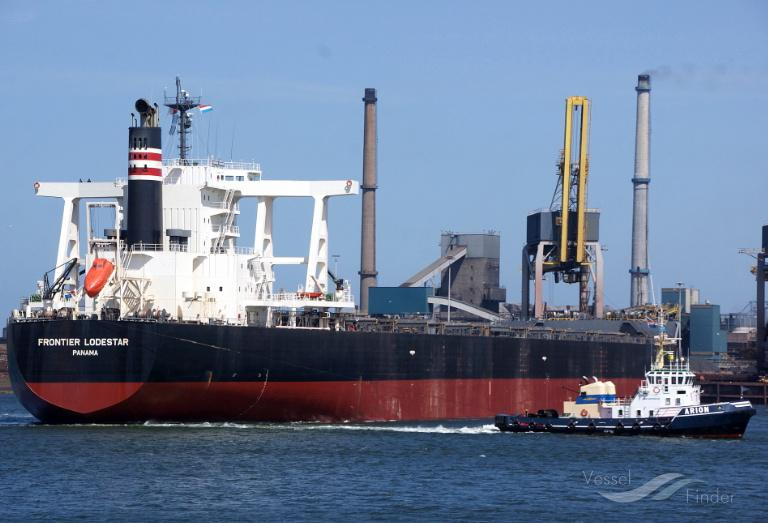OCR: (34, 330, 141, 366)
